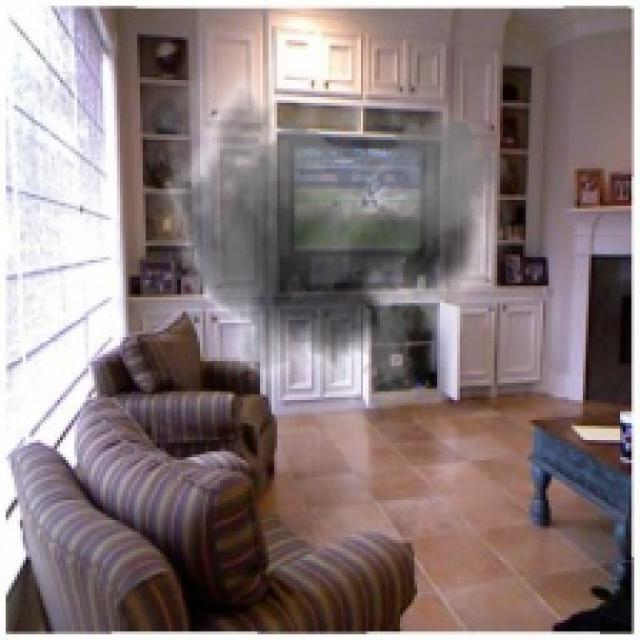Smoke: (143, 8, 512, 426)
